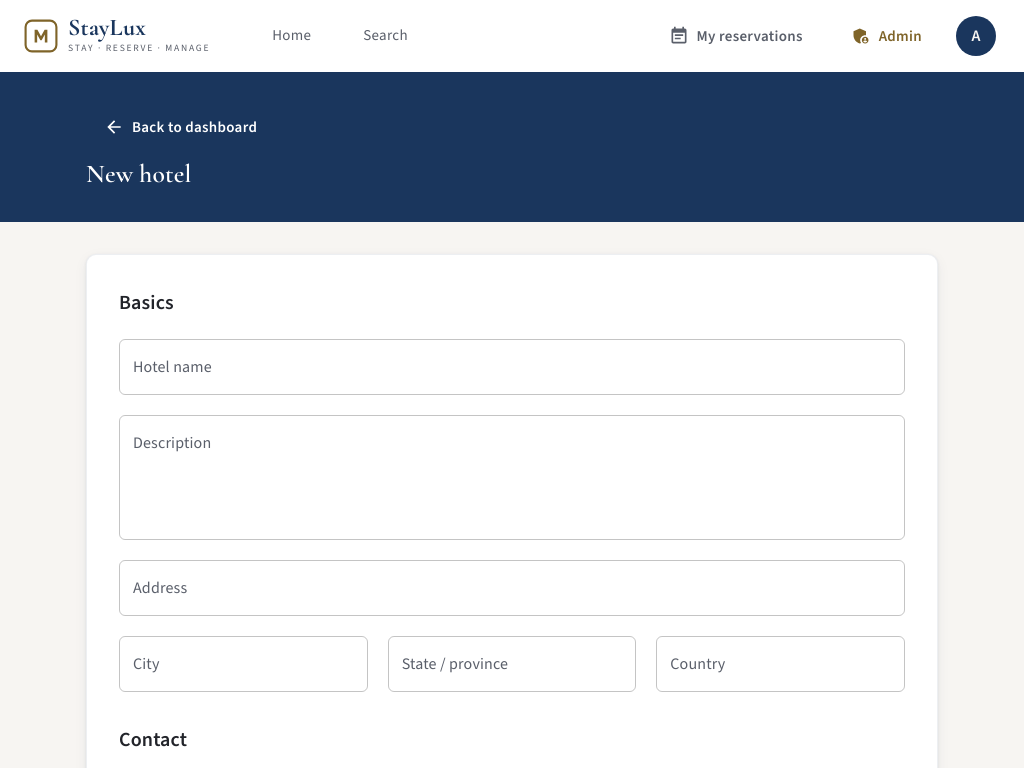
Test case: Sign out respeta el bloqueo del formulario antes de borrar la sesión
Type "Keep this" into the field labelled "Hotel name" at (512, 367), box x1=119 y1=339 x2=905 y2=395
Click the button named "Account menu for admin" at (976, 36), box x1=952 y1=12 x2=1000 y2=60
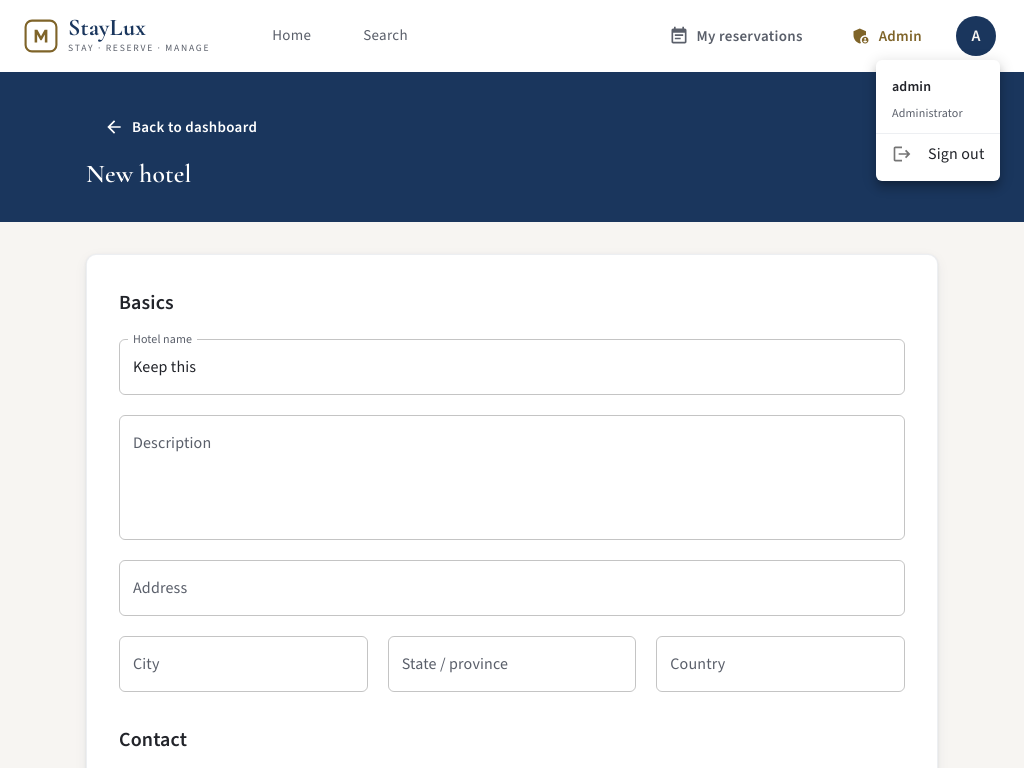
Click the menu item "Sign out" at (938, 154), box x1=892 y1=143 x2=984 y2=164
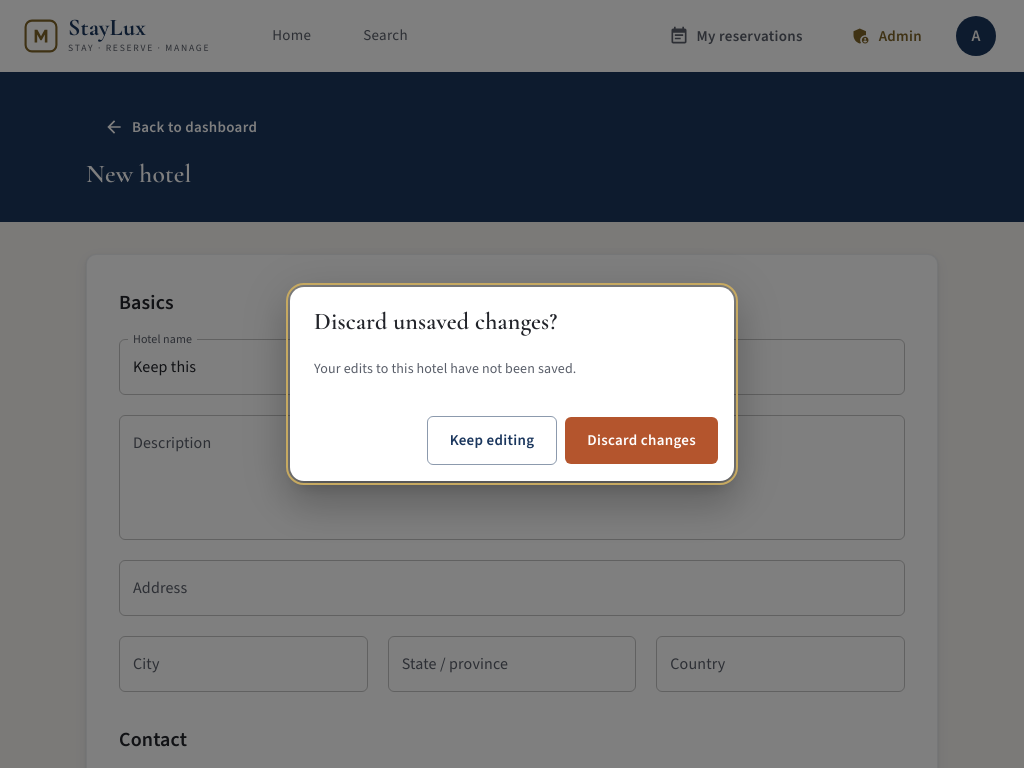
Click the button "Keep editing" at (492, 440), box x1=427 y1=416 x2=557 y2=465
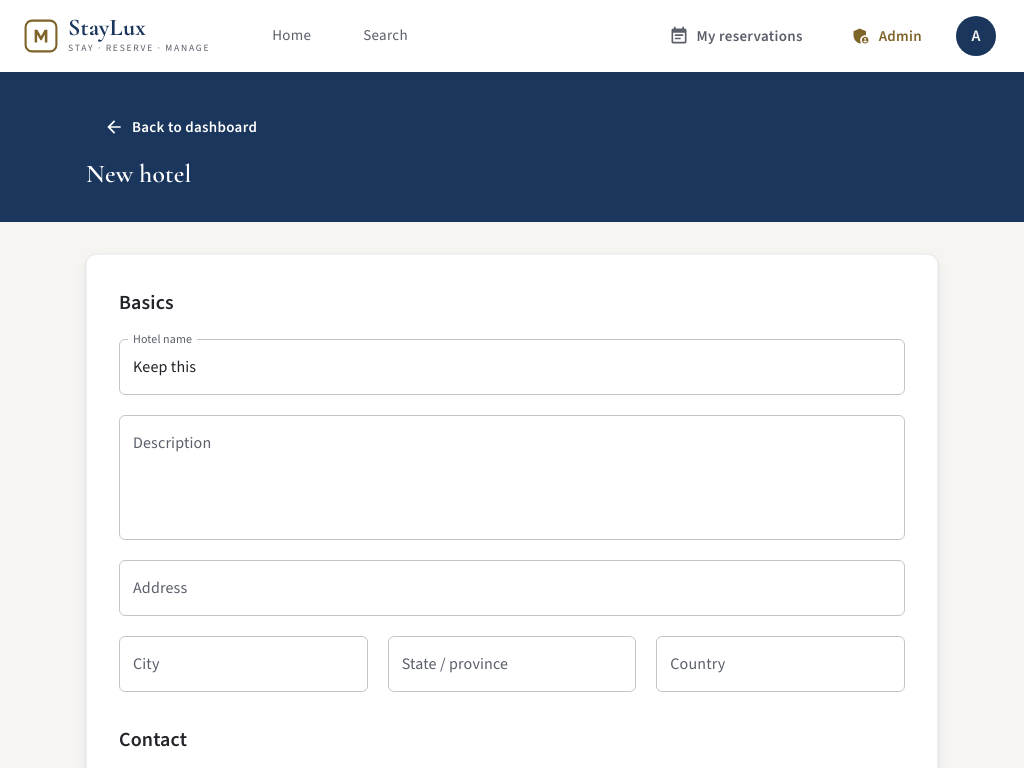
Click the button named "Account menu for admin" at (976, 36), box x1=952 y1=12 x2=1000 y2=60
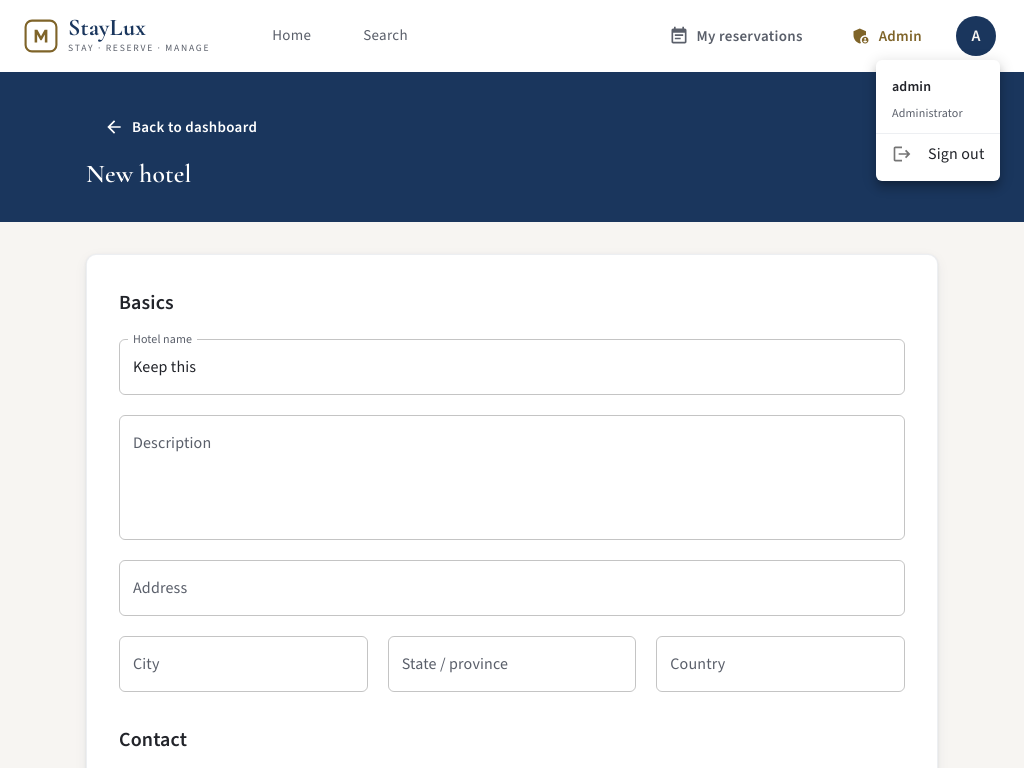
Click the menu item "Sign out" at (938, 154), box x1=892 y1=143 x2=984 y2=164
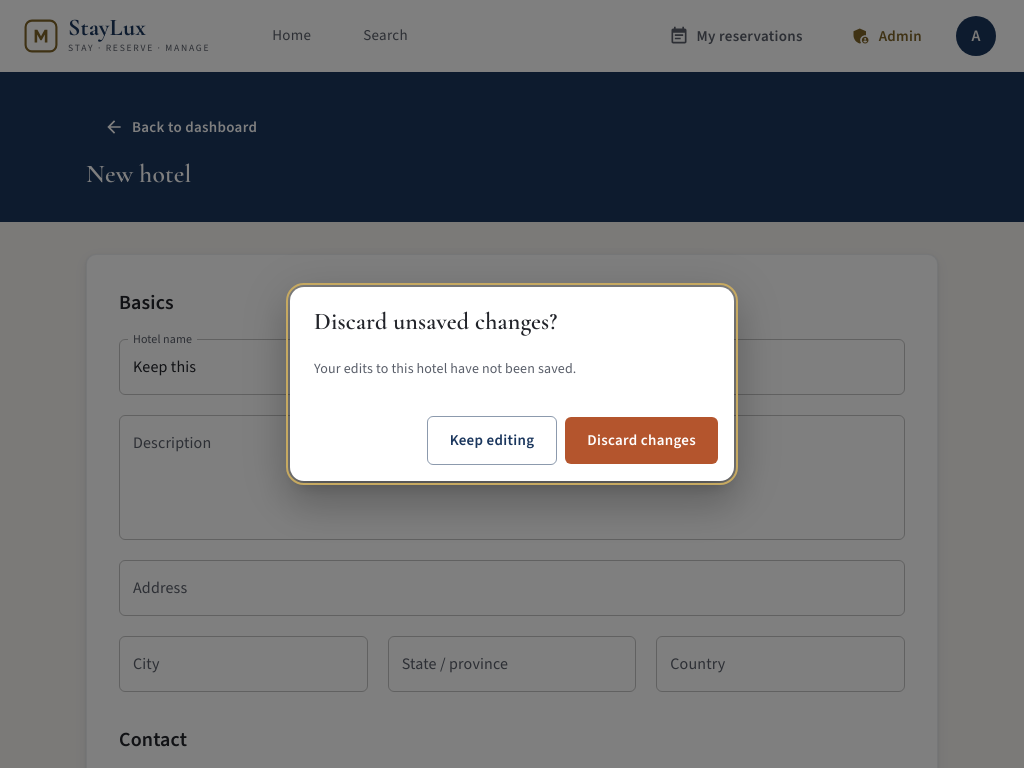
Click the button "Discard changes" at (642, 440), box x1=565 y1=417 x2=718 y2=464
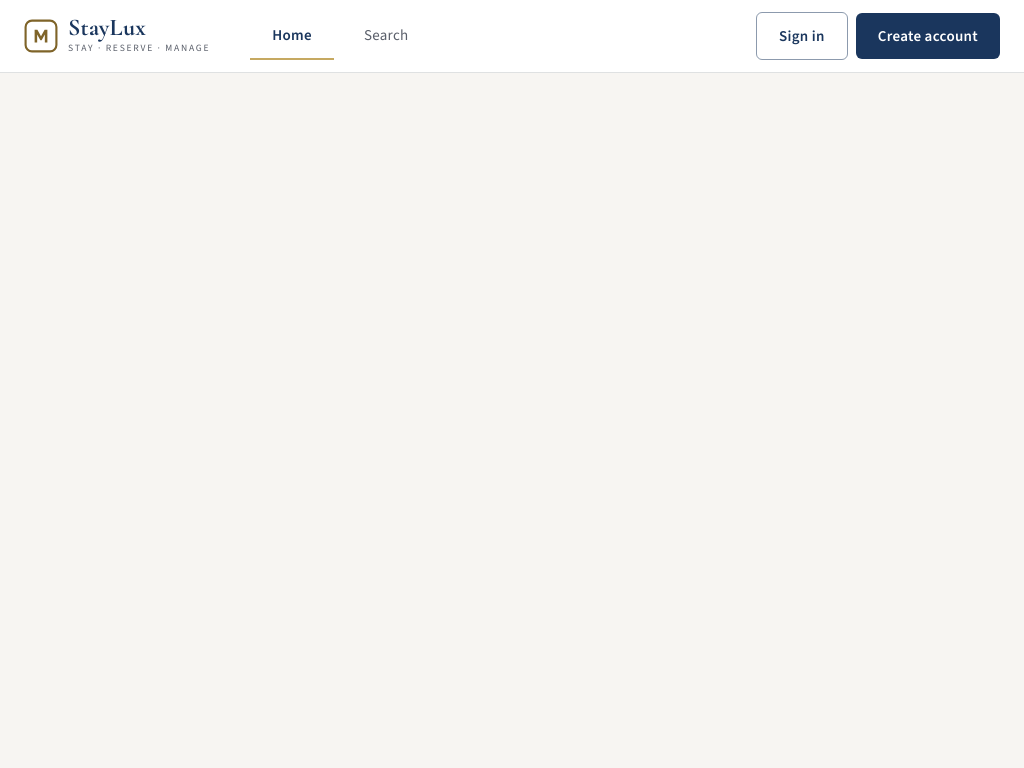
Expected: the link "Sign in" is shown, x1=756 y1=12 x2=848 y2=60
